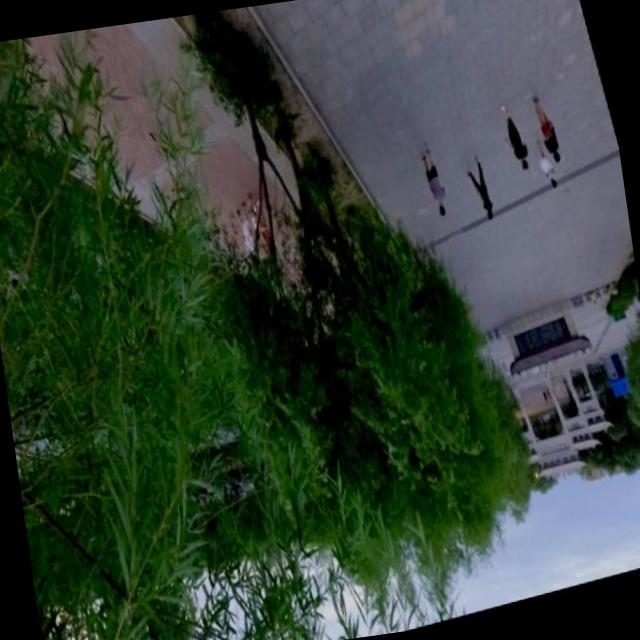person: (418, 138, 453, 220), (497, 102, 534, 177), (532, 94, 566, 169), (464, 157, 498, 226)
